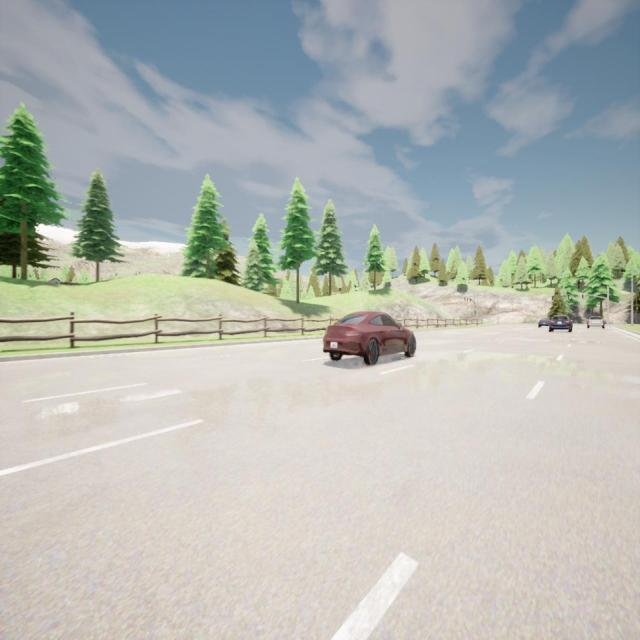Vehicle: (323, 311, 416, 364), (549, 315, 573, 332), (586, 316, 605, 328), (538, 318, 549, 327)
traffic_light: (464, 298, 466, 302), (582, 294, 583, 300), (568, 295, 569, 300), (552, 296, 553, 300), (467, 298, 468, 302), (470, 299, 470, 303)
